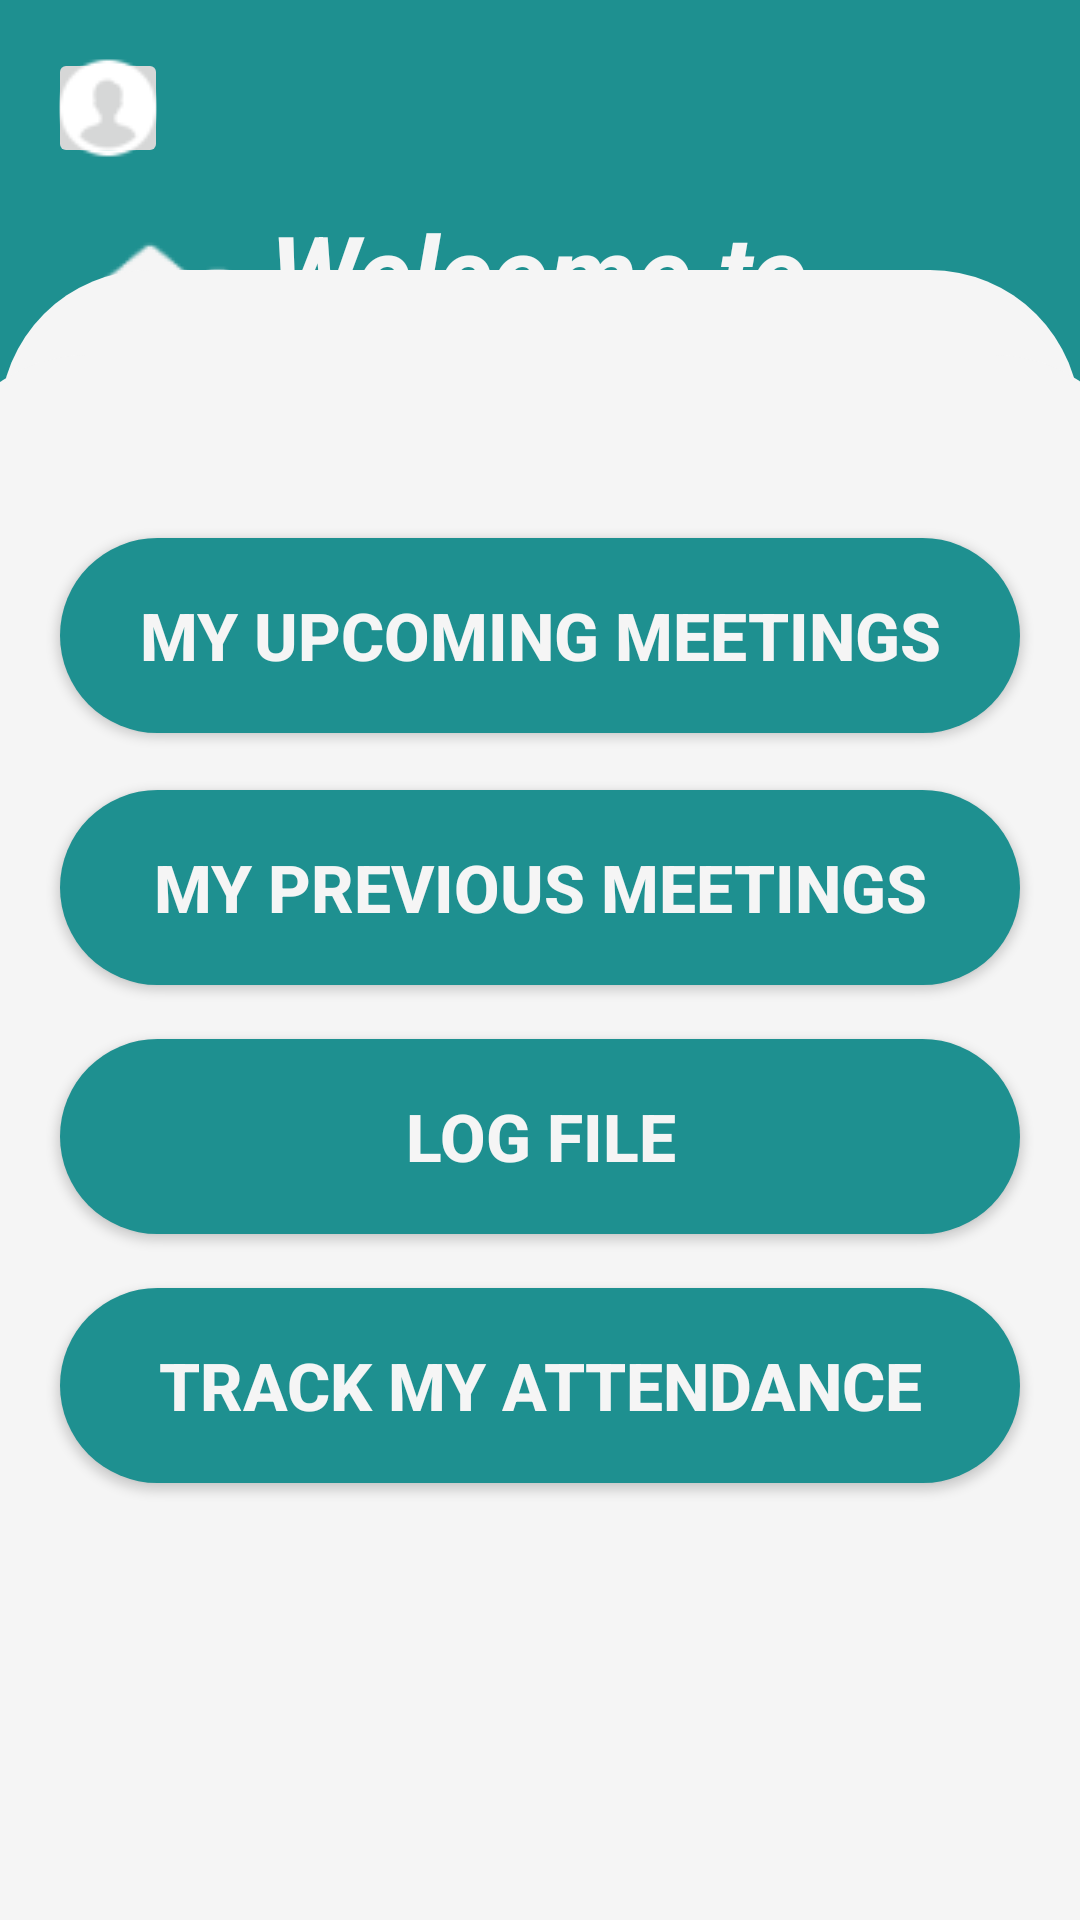

Locate icon controls on the screen. Image size 1080×1920, boxes as (left=x1, top=y1, right=x2, bottom=y2).
male user: (left=59, top=59, right=157, bottom=157)
